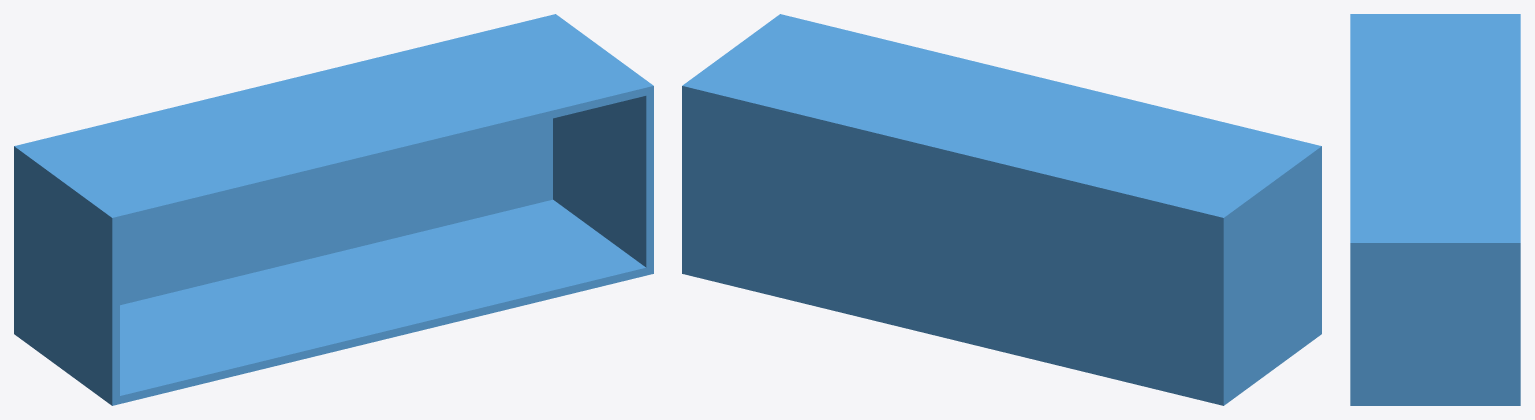
The model's file is closeBookshelf.glb.
3 renders of one model, left to right at view 1: azimuth 30°, elevation 25°; view 2: azimuth 150°, elevation 25°; view 3: azimuth 270°, elevation 25°, orthographic. The views are drawn at different scales.
Visible parts, largest first — view 1: Cube; view 2: Cube; view 3: Cube.
Part boxes in pixels (box(x1,y1,x2,y2)): Cube: box(14, 14, 653, 405); Cube: box(682, 14, 1321, 405); Cube: box(1350, 14, 1520, 405).
Bounding box in the file's own units: 2 × 0.6633 × 0.6275.
